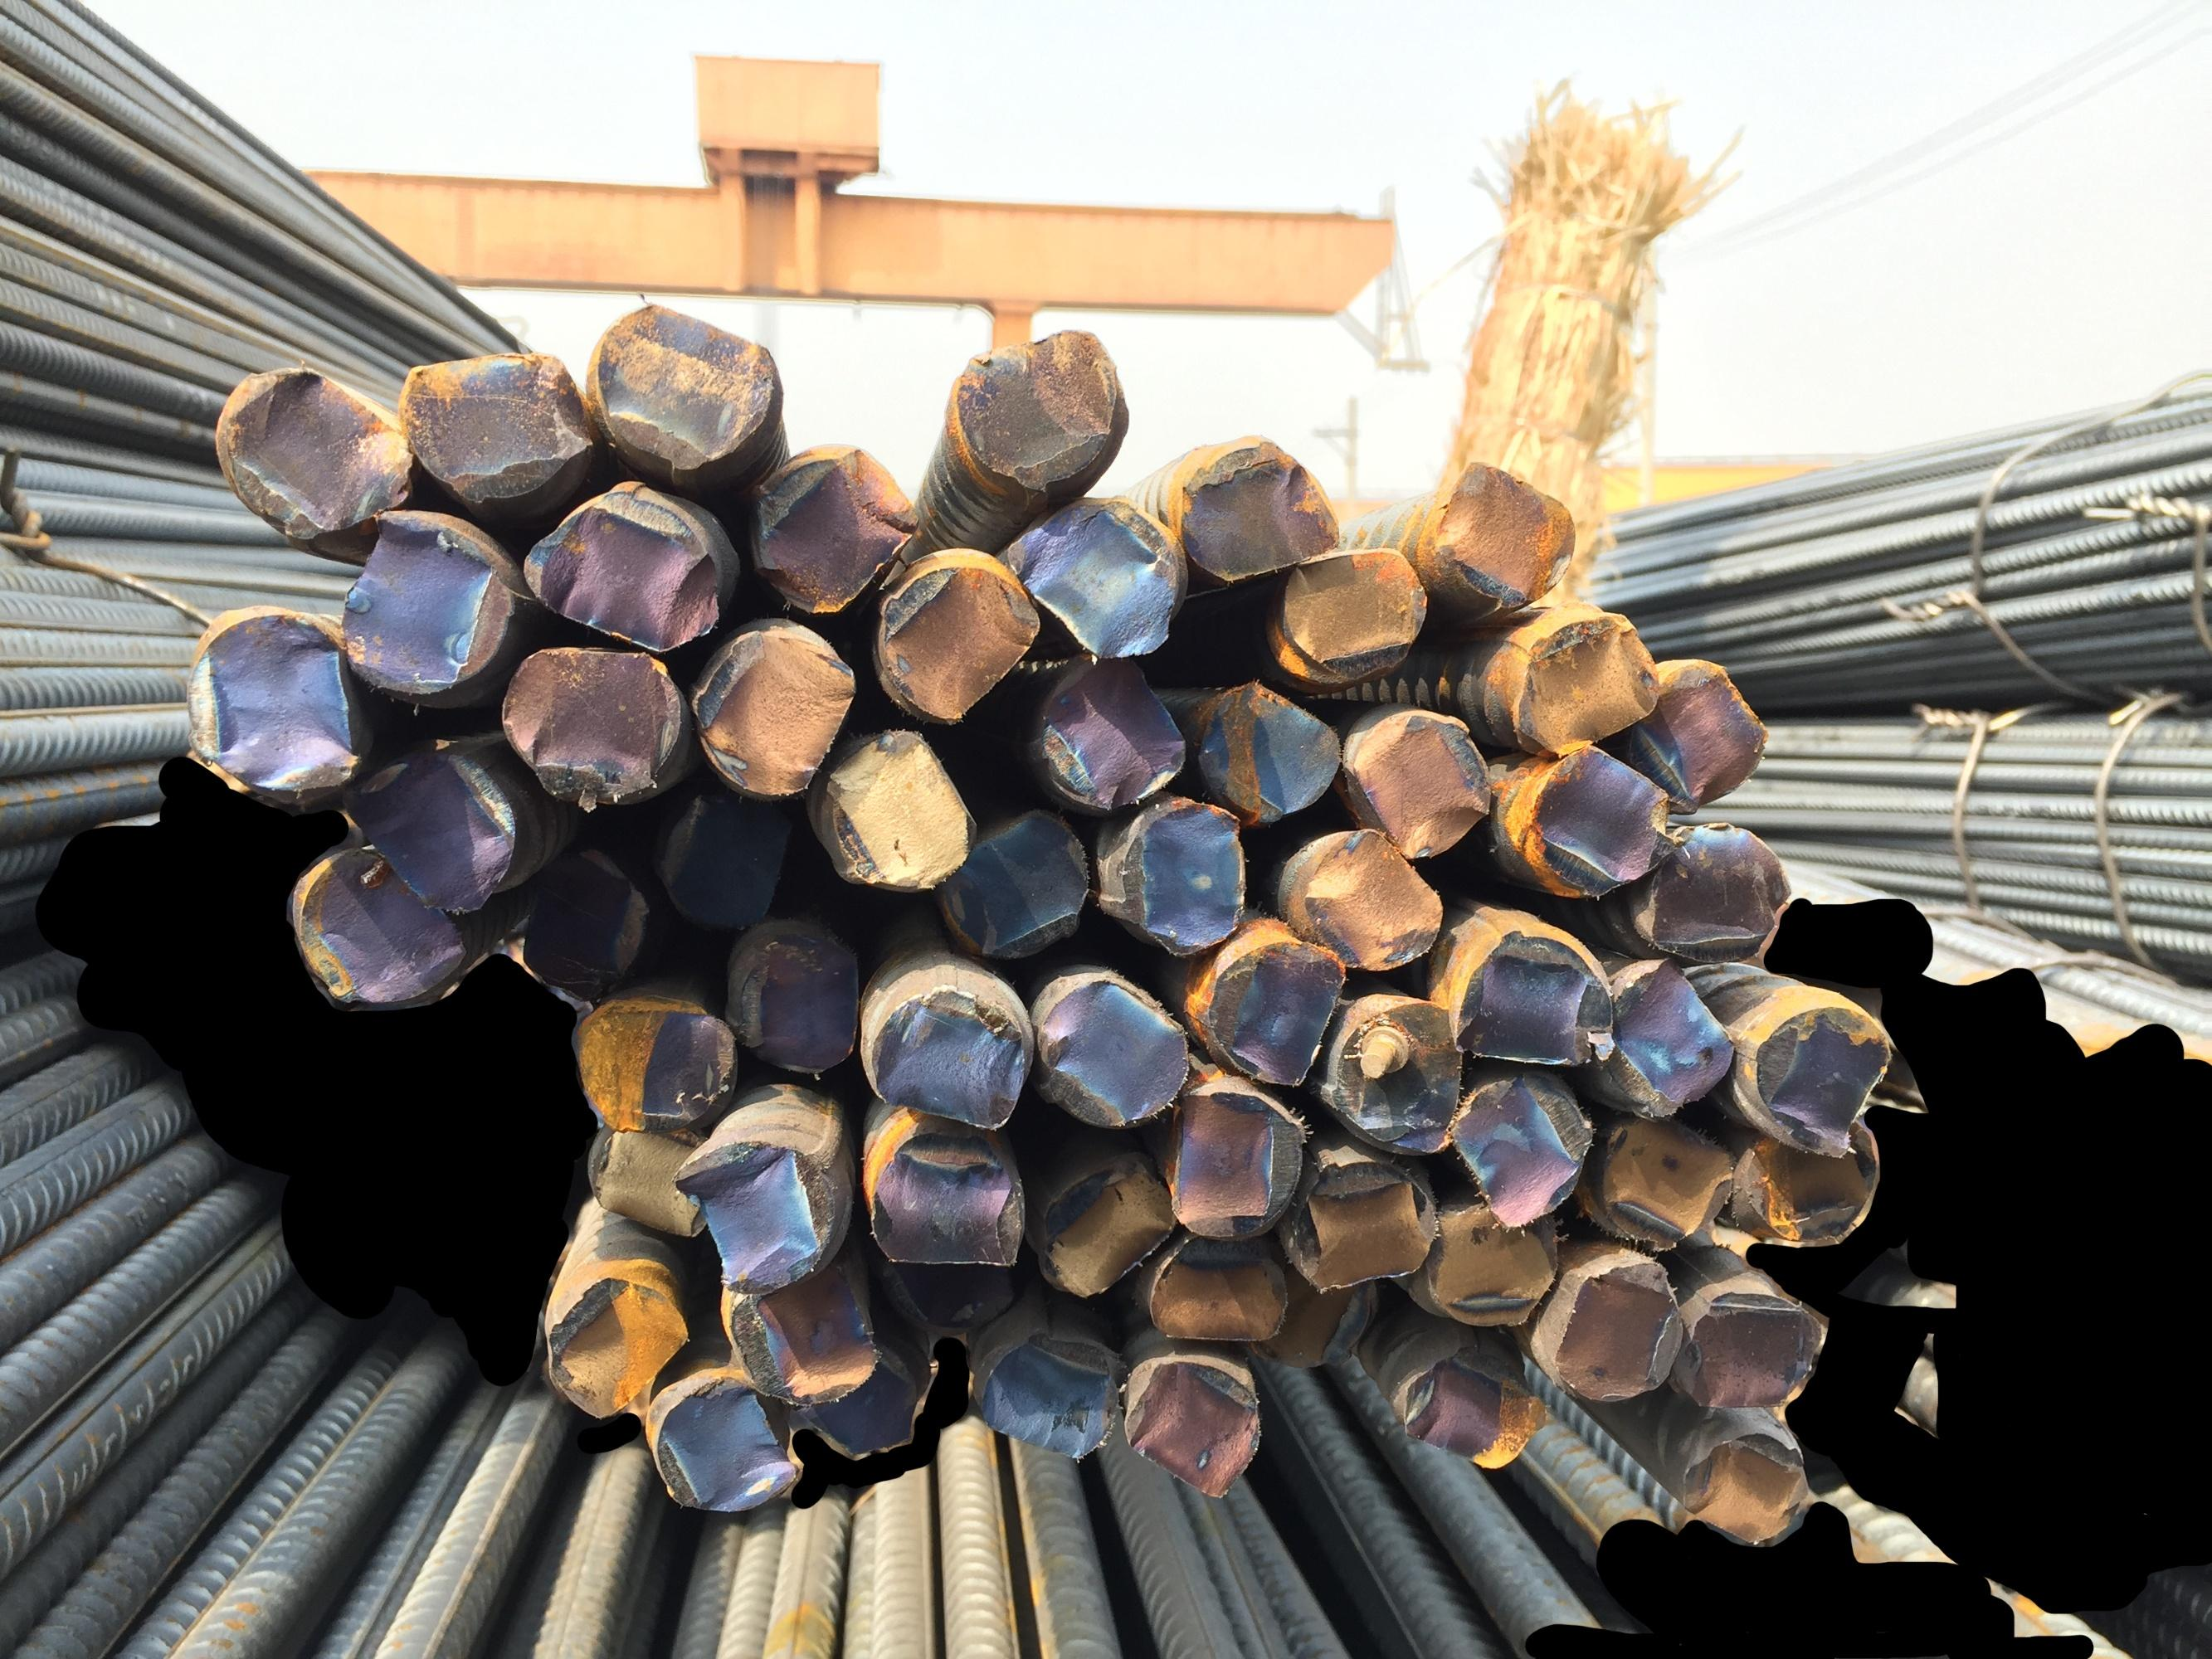bar: (176, 601, 361, 812), (575, 295, 777, 479), (218, 356, 413, 545), (329, 507, 519, 702), (512, 477, 720, 655), (485, 636, 683, 812), (865, 545, 1041, 732), (746, 444, 922, 629), (396, 343, 591, 509), (695, 615, 865, 805), (288, 843, 465, 1016), (950, 324, 1128, 495), (343, 753, 525, 918), (814, 725, 978, 899), (675, 1133, 851, 1295), (1014, 504, 1178, 673), (638, 1368, 811, 1525), (1745, 992, 1896, 1164), (1032, 972, 1192, 1134), (1171, 434, 1340, 587), (568, 988, 739, 1140), (1457, 917, 1618, 1077), (1030, 650, 1191, 809), (716, 1255, 884, 1406), (863, 981, 1034, 1129), (493, 850, 655, 1006), (535, 1269, 692, 1425), (1187, 673, 1340, 831), (1520, 739, 1675, 894), (1156, 1082, 1306, 1243), (936, 810, 1093, 962), (1431, 451, 1581, 610), (1199, 934, 1347, 1094), (1602, 962, 1738, 1131), (1450, 1073, 1595, 1232), (1347, 716, 1497, 868), (1513, 603, 1659, 758), (1297, 823, 1445, 974), (865, 1134, 1032, 1269), (1640, 650, 1771, 819), (1323, 995, 1459, 1157), (1642, 817, 1790, 964), (1126, 1349, 1264, 1506), (1109, 798, 1245, 957), (1541, 1262, 1689, 1406), (1027, 1164, 1180, 1300), (657, 784, 795, 934), (737, 925, 865, 1084), (1680, 1281, 1829, 1417), (1292, 1157, 1442, 1291), (969, 1328, 1114, 1466), (1731, 1121, 1883, 1249), (1398, 1351, 1551, 1478), (1593, 1119, 1740, 1249), (1140, 1223, 1292, 1349), (575, 1117, 718, 1249), (783, 1330, 927, 1460), (1276, 551, 1433, 671), (1677, 1422, 1813, 1546), (1428, 1202, 1558, 1328), (1248, 1274, 1381, 1378), (879, 1248, 1021, 1324)
